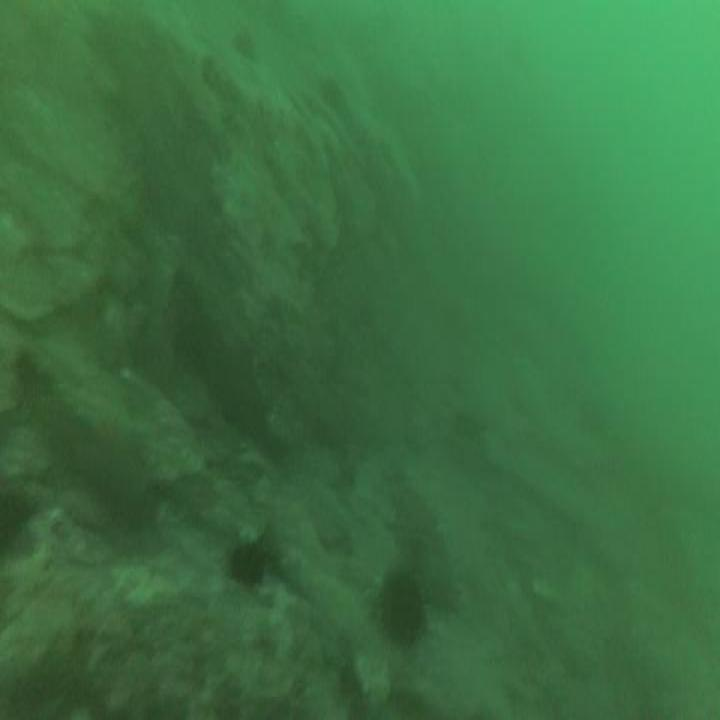echinus: (382, 573, 425, 647), (231, 542, 263, 585), (234, 28, 254, 61)
starfish: (79, 409, 140, 464)
